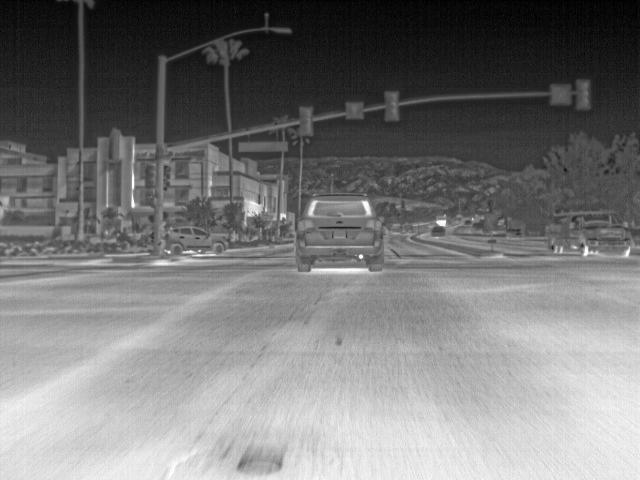car: (296, 192, 386, 272), (565, 207, 634, 257), (167, 226, 231, 254), (431, 226, 446, 237), (472, 222, 485, 232), (464, 218, 471, 228)
person: (158, 219, 171, 256), (552, 222, 565, 255)
